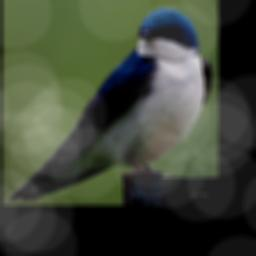Swallow: (8, 6, 213, 204)
